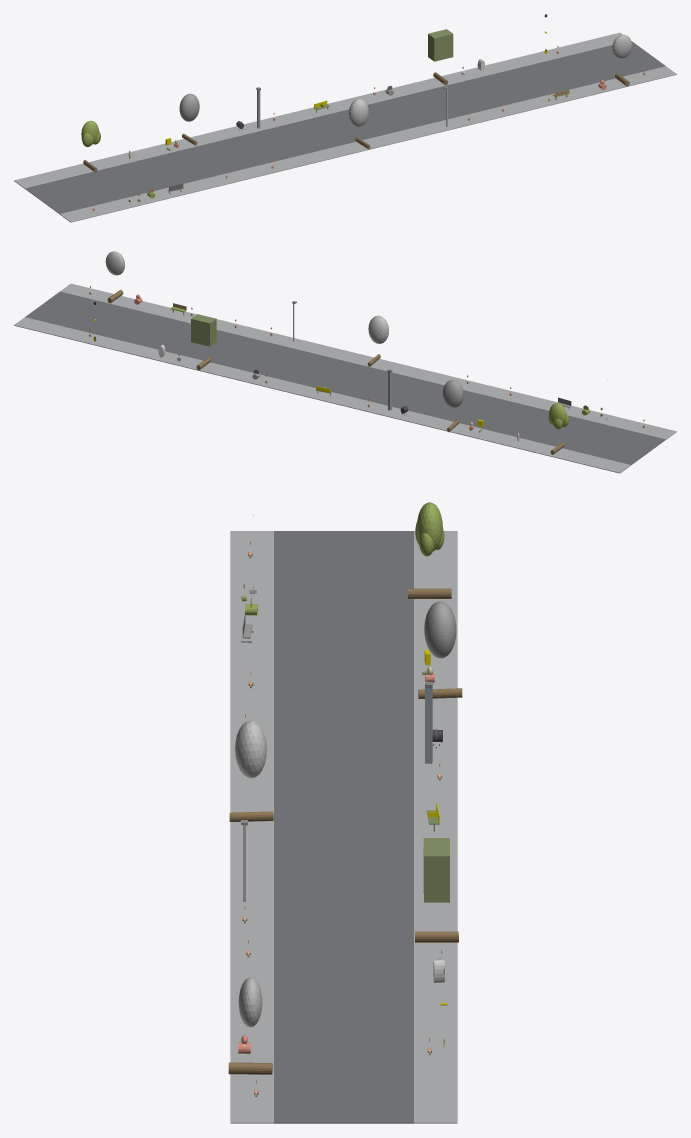
The picture shows the model from 3 angles, top to bottom: view 1: azimuth 30°, elevation 25°; view 2: azimuth 150°, elevation 25°; view 3: azimuth 270°, elevation 25°; orthographic projection. The views are drawn at different scales.
Parts seen in each view (by area): view 1: road_slab, sidewalk_left, sidewalk_right, inst_0015, inst_0014, inst_0013, inst_0012, inst_0016; view 2: road_slab, sidewalk_right, sidewalk_left, inst_0015, inst_0014, inst_0013, inst_0012, inst_0016; view 3: road_slab, sidewalk_left, sidewalk_right, inst_0015, inst_0014, inst_0013, inst_0012, inst_0016.
Boxes of the visible parts, x1,y1,x2,y2 form: road_slab: [25, 41, 665, 214]; sidewalk_left: [60, 66, 676, 222]; sidewalk_right: [14, 32, 622, 188]; inst_0015: [428, 29, 453, 85]; inst_0014: [348, 98, 370, 149]; inst_0013: [179, 93, 199, 145]; inst_0012: [81, 120, 100, 172]; inst_0016: [612, 34, 632, 86]; road_slab: [25, 291, 665, 465]; sidewalk_right: [14, 317, 630, 473]; sidewalk_left: [60, 283, 676, 439]; inst_0015: [191, 314, 216, 370]; inst_0014: [367, 315, 388, 366]; inst_0013: [442, 380, 463, 432]; inst_0012: [548, 403, 568, 454]; inst_0016: [105, 251, 125, 303]; road_slab: [274, 531, 413, 1123]; sidewalk_left: [230, 531, 273, 1123]; sidewalk_right: [414, 531, 457, 1123]; inst_0015: [415, 838, 458, 942]; inst_0014: [229, 720, 273, 821]; inst_0013: [418, 601, 462, 698]; inst_0012: [408, 502, 451, 598]; inst_0016: [228, 977, 272, 1074].
Size of the model in its own units: 80 by 6.08 by 13.37.
